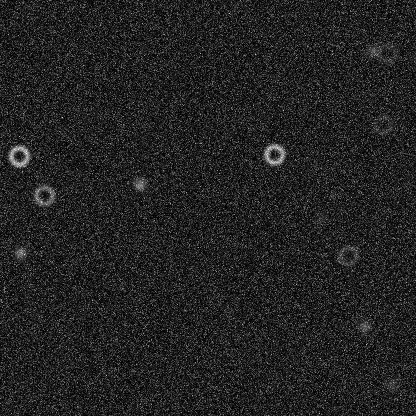Ring: (32, 183, 56, 207), (262, 142, 286, 166), (375, 41, 399, 65), (336, 243, 360, 267), (371, 112, 395, 136), (6, 143, 30, 167)
Spot: (312, 208, 328, 224), (356, 318, 372, 334), (131, 176, 147, 192), (364, 42, 380, 58), (12, 244, 28, 260), (383, 376, 399, 392)
